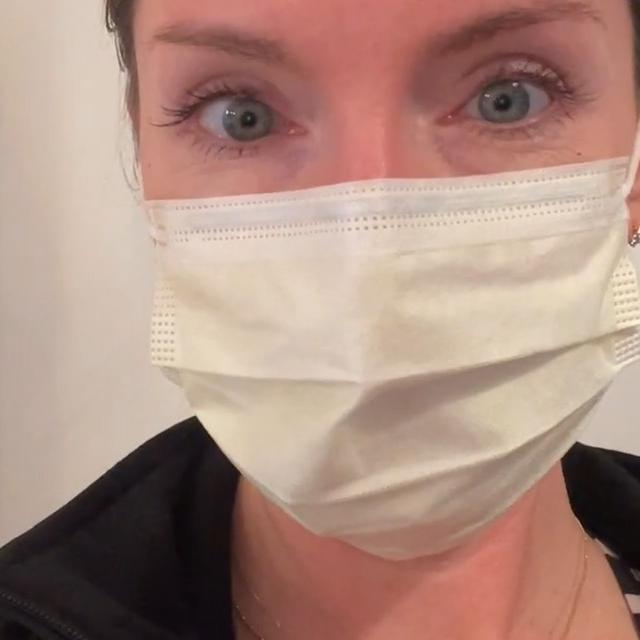Mask: (122, 32, 640, 557)
Person: (0, 0, 640, 640)
